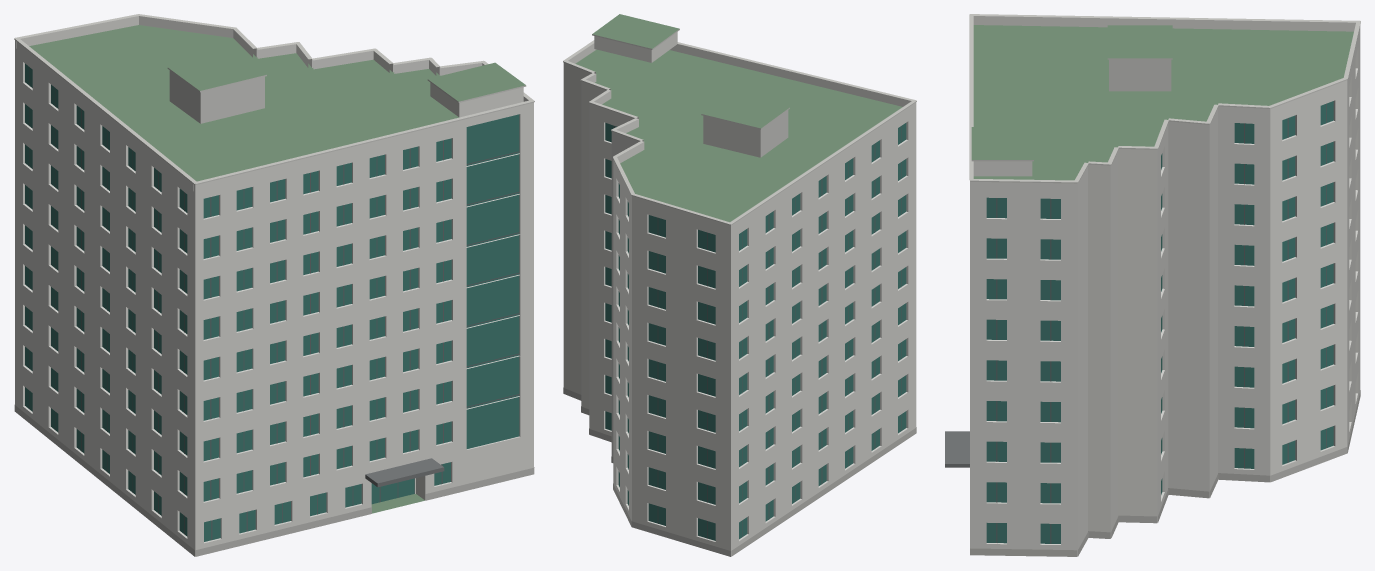
The picture shows the model from 3 angles, left to right: view 1: azimuth 30°, elevation 25°; view 2: azimuth 150°, elevation 25°; view 3: azimuth 270°, elevation 25°; orthographic projection. The views are drawn at different scales.
Visible parts, largest first — view 1: east5352__wall, east5352__glass, east5352__roof, east5352__parapet, east5352__frame, east5352__trim, east5352__base, east5352__wall2, east5352__canopy; view 2: east5352__wall, east5352__roof, east5352__glass, east5352__parapet, east5352__trim, east5352__wall2, east5352__base, east5352__frame; view 3: east5352__wall, east5352__roof, east5352__glass, east5352__parapet, east5352__trim, east5352__base, east5352__wall2, east5352__frame, east5352__canopy.
Boxes of the visible parts, bbox=[...] form: east5352__wall: bbox=[15, 47, 533, 556]; east5352__glass: bbox=[25, 63, 519, 541]; east5352__roof: bbox=[29, 25, 525, 513]; east5352__parapet: bbox=[15, 16, 533, 192]; east5352__frame: bbox=[29, 67, 519, 540]; east5352__trim: bbox=[14, 14, 534, 184]; east5352__base: bbox=[14, 404, 534, 556]; east5352__wall2: bbox=[169, 70, 264, 123]; east5352__canopy: bbox=[365, 458, 444, 487]; east5352__wall: bbox=[563, 32, 916, 556]; east5352__roof: bbox=[575, 14, 902, 222]; east5352__glass: bbox=[605, 123, 906, 540]; east5352__parapet: bbox=[563, 43, 916, 232]; east5352__trim: bbox=[563, 29, 916, 225]; east5352__wall2: bbox=[703, 110, 788, 157]; east5352__base: bbox=[563, 387, 916, 556]; east5352__frame: bbox=[613, 126, 901, 538]; east5352__wall: bbox=[970, 30, 1360, 556]; east5352__roof: bbox=[971, 25, 1353, 180]; east5352__glass: bbox=[986, 101, 1333, 543]; east5352__parapet: bbox=[970, 16, 1360, 190]; east5352__trim: bbox=[969, 14, 1360, 183]; east5352__base: bbox=[970, 390, 1360, 556]; east5352__wall2: bbox=[1109, 59, 1171, 91]; east5352__frame: bbox=[996, 103, 1326, 543]; east5352__canopy: bbox=[945, 431, 969, 467].
Bounding box in the file's own units: 32 × 35.4 × 33.4.
